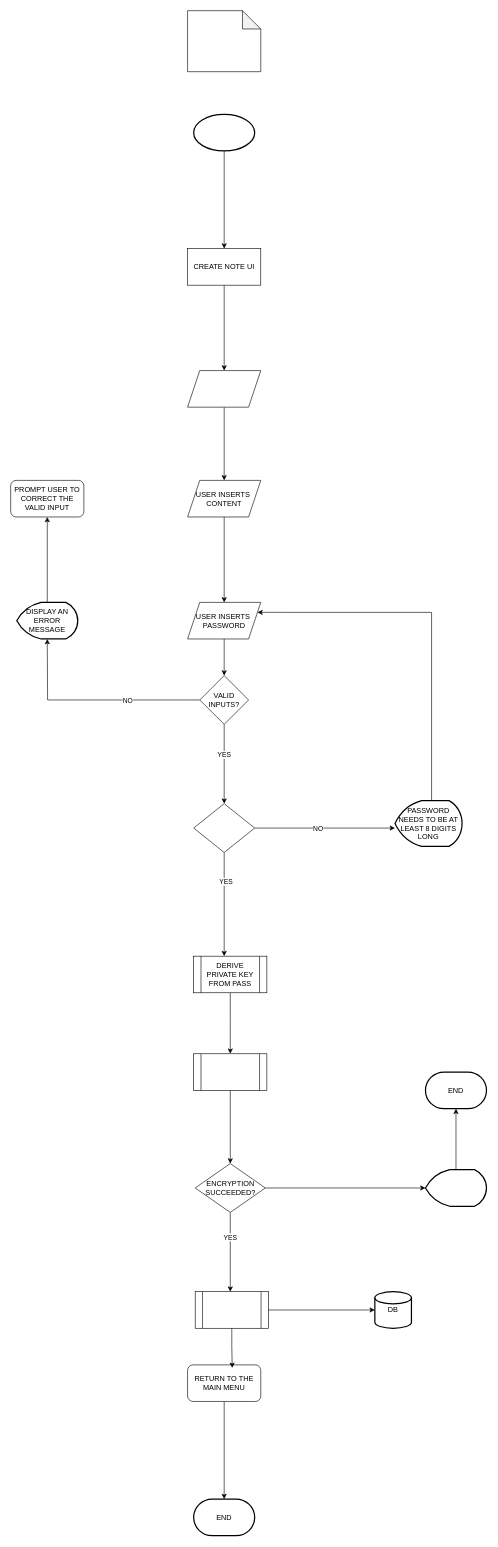
This 498x1547 diagram has some shape labels left out. The shapes that lost their labels are listed below. From the top down, each one's box as (x1, y1, x2, y2) in pixels, then its label:
(187, 10, 261, 72): CREATE NOTE FLOW
(193, 113, 255, 151): START
(187, 370, 261, 407): USER INSERTS TITLE
(193, 803, 255, 852): STRONG ENCRYPTED PASS?
(193, 1053, 267, 1090): ENCRYPT CONTENT
(425, 1169, 487, 1207): ENCRYPTION FAILED
(195, 1291, 268, 1328): STORE CONTENT INTO THE DB
